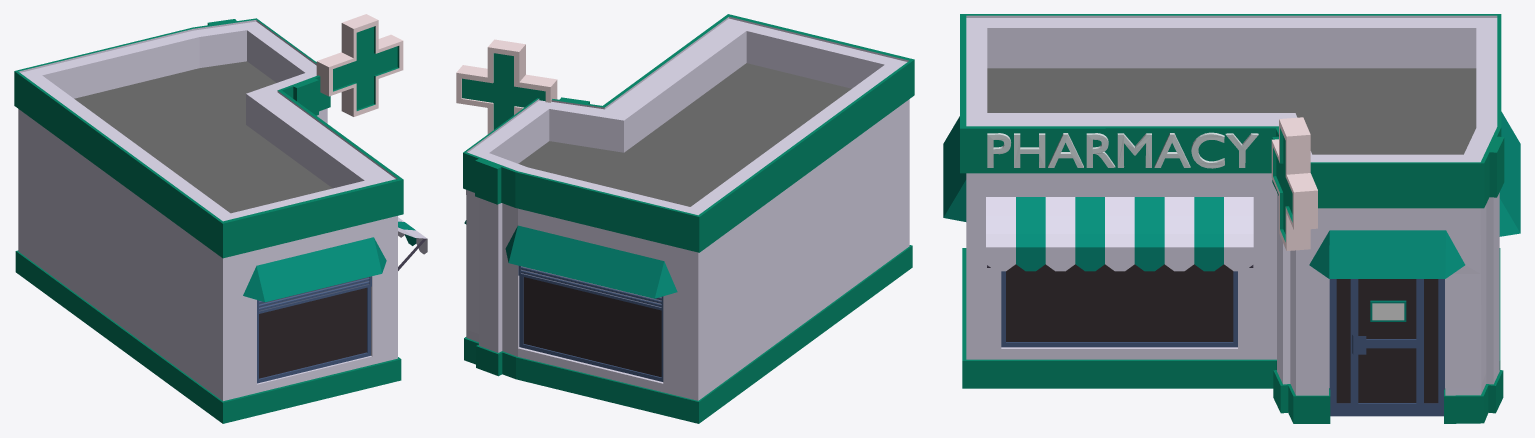
The model's file is farmacia (1x1).fbx.
The picture shows the model from 3 angles, left to right: view 1: azimuth 30°, elevation 25°; view 2: azimuth 150°, elevation 25°; view 3: azimuth 270°, elevation 25°; orthographic projection. The views are drawn at different scales.
Visible parts, largest first — view 1: PublicBuilding_Pharmacy; view 2: PublicBuilding_Pharmacy; view 3: PublicBuilding_Pharmacy.
Boxes of the visible parts, x1=… form: PublicBuilding_Pharmacy: x1=14, y1=14, x2=427, y2=423; PublicBuilding_Pharmacy: x1=456, y1=14, x2=914, y2=423; PublicBuilding_Pharmacy: x1=943, y1=14, x2=1520, y2=423.
Bounding box in the file's own units: 141 × 107 × 176.
